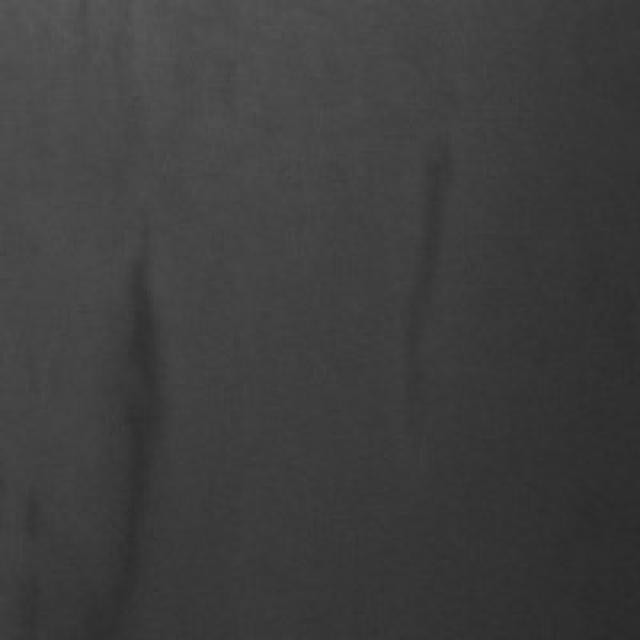inclusion: (93, 218, 176, 618), (388, 125, 470, 371)
